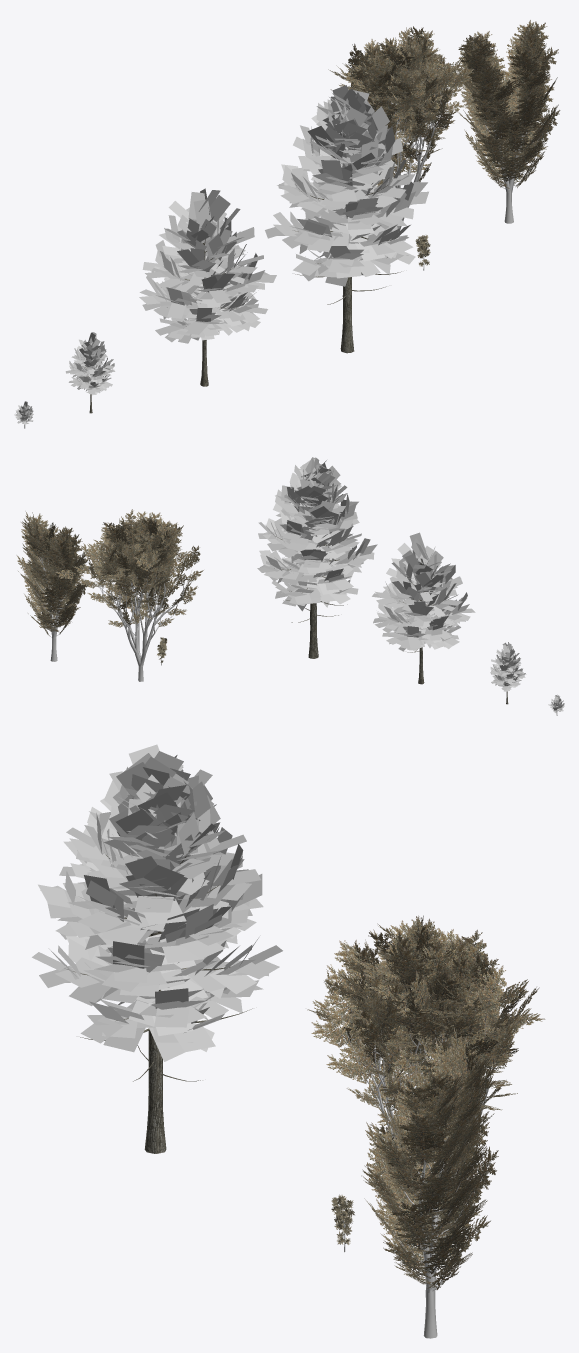
The model's file is Trees.fbx.
The picture shows the model from 3 angles, top to bottom: view 1: azimuth 30°, elevation 25°; view 2: azimuth 150°, elevation 25°; view 3: azimuth 270°, elevation 25°; orthographic projection. The views are drawn at different scales.
Visible parts, largest first — view 1: leaves.001, leaves, leaves.007, leaves.002, leaves.003, tree.001, tree.004, tree.006; view 2: leaves.001, leaves.002, leaves, leaves.007, tree.004, leaves.003, tree.001, tree.006; view 3: leaves.001, leaves.002, leaves.007, leaves, tree.001, tree.006, tree.004, leaves.005.
Boxes of the visible parts, x1,y1,x2,y2 form: leaves.001: (265, 85, 428, 286); leaves: (139, 188, 276, 343); leaves.007: (457, 20, 560, 188); leaves.002: (328, 26, 474, 186); leaves.003: (65, 332, 115, 395); tree.001: (294, 147, 401, 353); tree.004: (373, 70, 446, 232); tree.006: (477, 89, 542, 223); leaves.001: (257, 457, 377, 611); leaves.002: (55, 509, 203, 628); leaves: (372, 532, 475, 651); leaves.007: (16, 511, 89, 635); tree.004: (81, 546, 191, 681); leaves.003: (490, 642, 526, 691); tree.001: (274, 502, 347, 658); tree.006: (33, 557, 73, 661); leaves.001: (32, 744, 282, 1061); leaves.002: (307, 915, 545, 1149); leaves.007: (361, 1027, 498, 1289); leaves: (55, 755, 256, 943); tree.001: (67, 839, 252, 1153); tree.006: (391, 1087, 472, 1338); tree.004: (343, 987, 495, 1216); leaves.005: (331, 1194, 354, 1244).
Bounding box in the file's own units: 6668 × 2656 × 3114.
